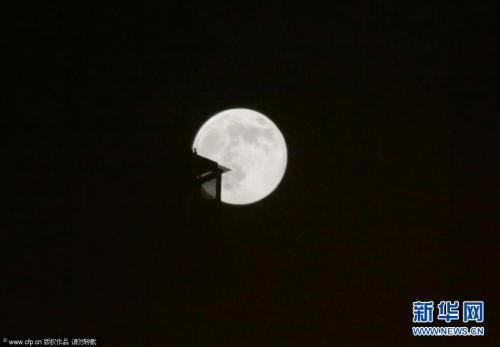moon: (191, 106, 289, 206)
